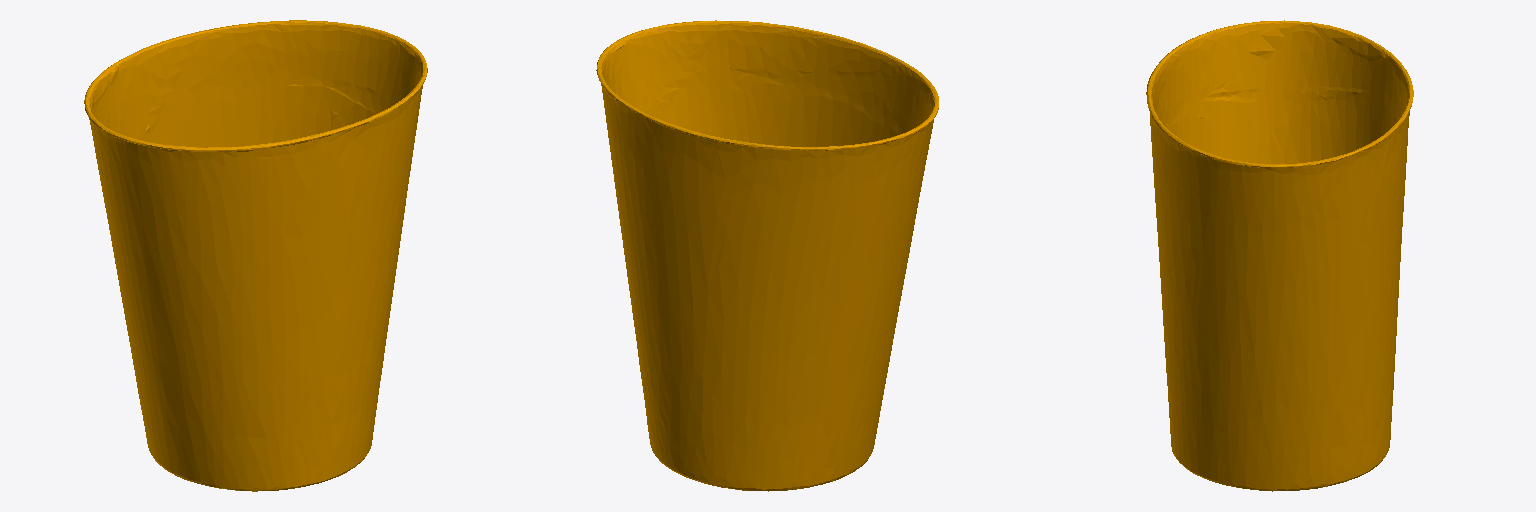
robot.urdf — Hefty_Waste_Basket_Decorative_Bronze_85_liter:
<?xml version="1.0" ?>
<robot name="Hefty_Waste_Basket_Decorative_Bronze_85_liter">
  <link name="link_0">
    <inertial>
      <origin xyz="0 0 0" rpy="0 0 0"/>
      <mass value="1.0"/>
      <inertia ixx="0.1" ixy="0.0" ixz="0.0" iyy="0.1" iyz="0.0" izz="0.1"/>
    </inertial>
    <visual name="visual">
      <origin xyz="0 0 0" rpy="0 0 0"/>
      <geometry>
        <mesh filename="meshes/model.obj"/>
      </geometry>
    </visual>
    <collision name="collision_0">
      <origin xyz="0 0 0" rpy="0 0 0"/>
      <geometry>
        <mesh filename="meshes/model.obj"/>
      </geometry>
    </collision>
  </link>
</robot>

--- What the picture shows (computed from the rendered views, not written in the file) ---
Views: 3 orthographic renders of the robot side by side, from view 1: azimuth 30°, elevation 25°; view 2: azimuth 150°, elevation 25°; view 3: azimuth 270°, elevation 25°.
Robot: Hefty_Waste_Basket_Decorative_Bronze_85_liter — 1 links, 0 joints (none); root link link_0; default pose: every joint at zero.
Visible links, largest first — view 1: link_0; view 2: link_0; view 3: link_0.
Link boxes in pixels (x1,y1,x2,y2): link_0: [84, 20, 427, 491]; link_0: [596, 20, 938, 491]; link_0: [1146, 20, 1413, 491].
Size in the robot's own frame: 0.2707 by 0.2042 by 0.3002 metres.
Meshes: 1 distinct files referenced, 1 mesh visuals loaded (1 OBJ).